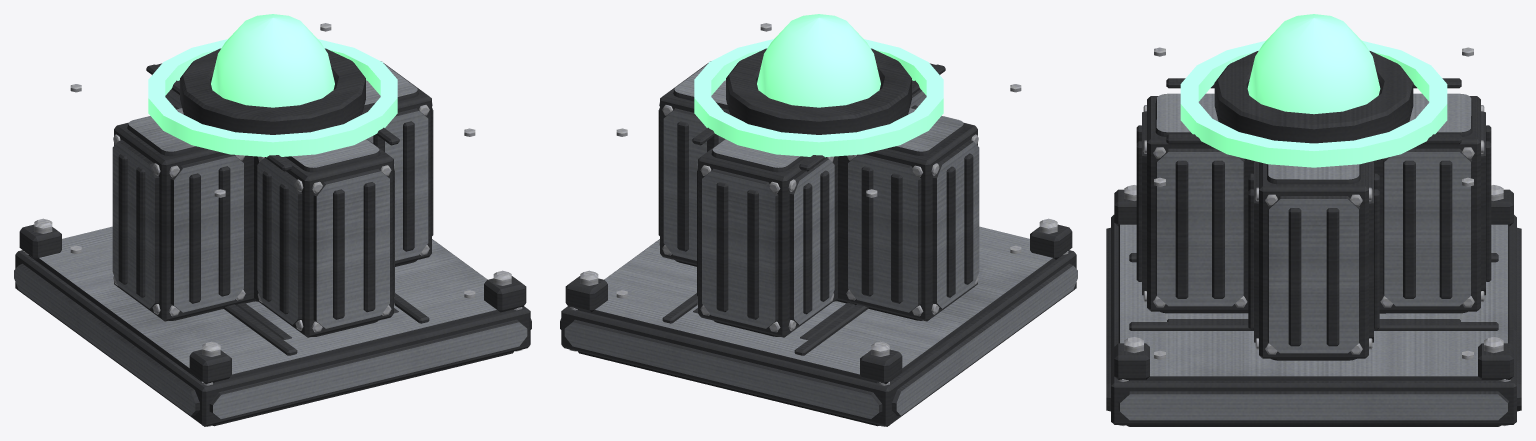
The model's file is R4X_RepairPulse.glb.
3 views of the same model, side by side, from view 1: azimuth 30°, elevation 25°; view 2: azimuth 150°, elevation 25°; view 3: azimuth 270°, elevation 25° (orthographic). The views are drawn at different scales.
Parts seen in each view (by area): view 1: R4X_RepairPulse_Body; view 2: R4X_RepairPulse_Body; view 3: R4X_RepairPulse_Body.
Boxes of the visible parts, <box> form: R4X_RepairPulse_Body: <box>14,14,531,426</box>; R4X_RepairPulse_Body: <box>560,14,1077,426</box>; R4X_RepairPulse_Body: <box>1106,14,1521,426</box>.
Bounding box in the file's own units: 0.52 × 0.4512 × 0.52.
4 materials, 3 textured.
